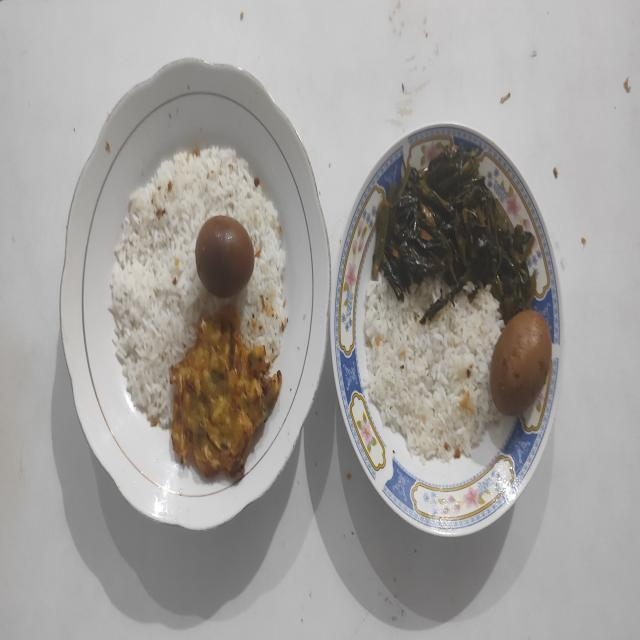nasi_putih: (109, 146, 288, 428), (364, 278, 504, 462)
tumis_kangkung: (374, 150, 535, 323)
